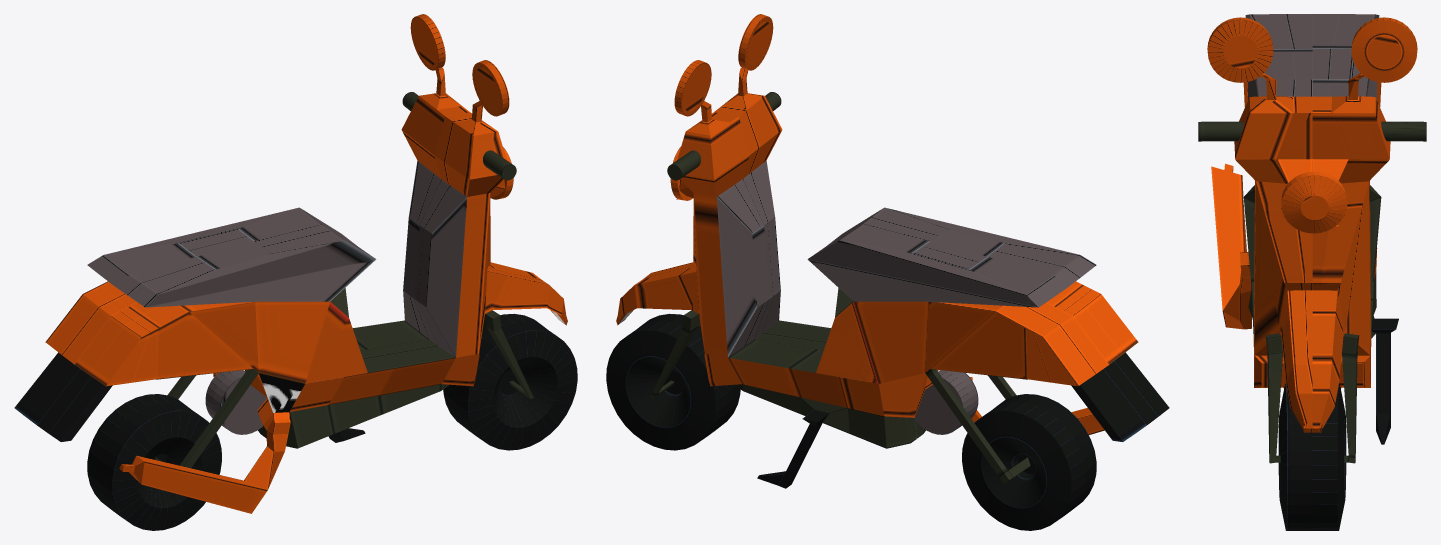
The model's file is scooterClass.glb.
3 views of the same model, side by side, from view 1: azimuth 30°, elevation 25°; view 2: azimuth 150°, elevation 25°; view 3: azimuth 270°, elevation 25° (orthographic). The views are drawn at different scales.
Visible parts, largest first — view 1: Plane; view 2: Plane; view 3: Plane.
Part boxes in pixels (x1=…): Plane: x1=14, y1=14, x2=577, y2=530; Plane: x1=606, y1=14, x2=1169, y2=530; Plane: x1=1198, y1=14, x2=1426, y2=530.
Size of the model in its own units: 3.17 by 2.37 by 1.03.
1 material, 1 textured.
